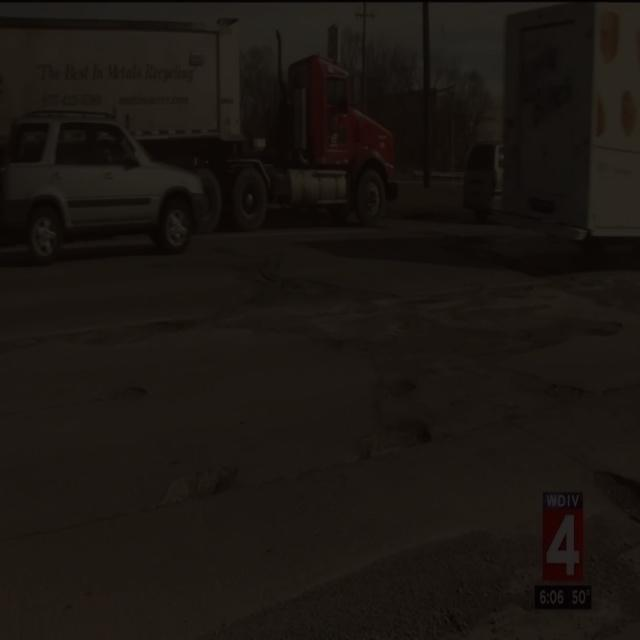Pothole: (0, 309, 214, 366), (242, 254, 359, 324), (450, 314, 630, 359), (146, 456, 252, 512), (358, 408, 448, 465), (582, 461, 640, 527), (109, 376, 146, 409)
